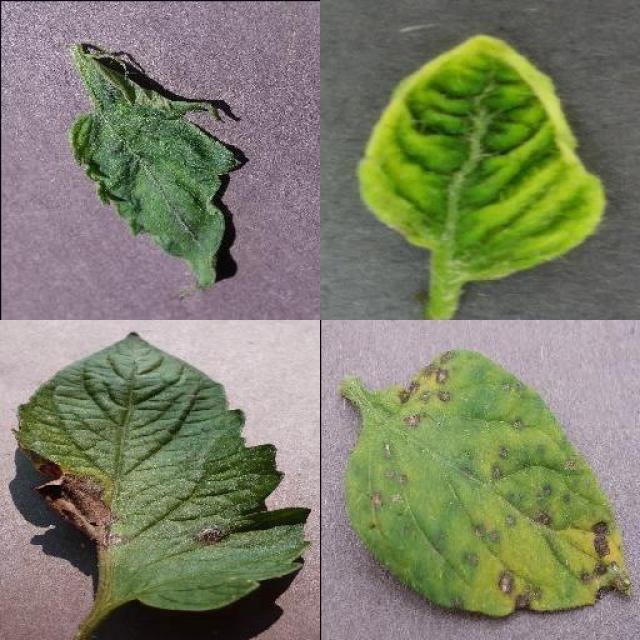Late Blight: (14, 329, 311, 615)
Septoria: (344, 348, 634, 618)
